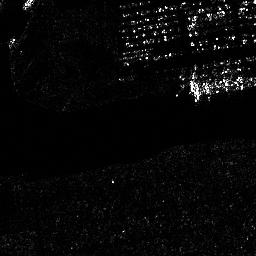ship: (185, 76, 255, 95)
